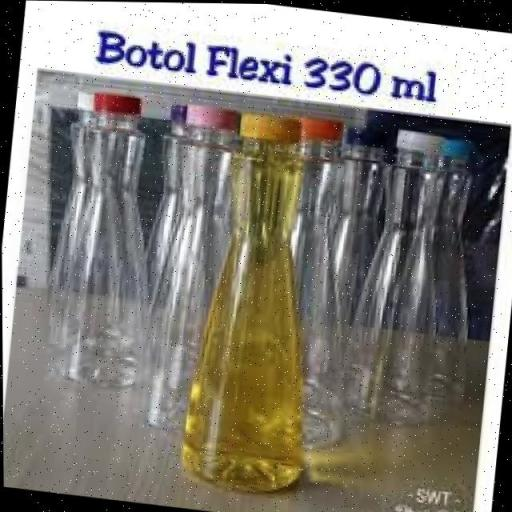plastic: (168, 113, 328, 511), (125, 88, 259, 446), (34, 90, 180, 406), (345, 123, 465, 427), (296, 118, 416, 420)
